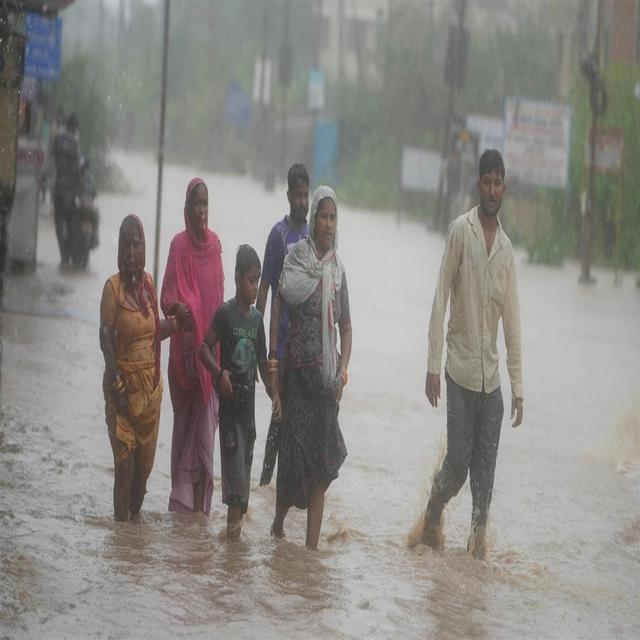Person-RiskLevel2: (420, 151, 526, 565), (268, 184, 358, 544), (96, 209, 174, 526), (157, 170, 222, 532), (201, 232, 260, 540), (255, 162, 311, 351)
